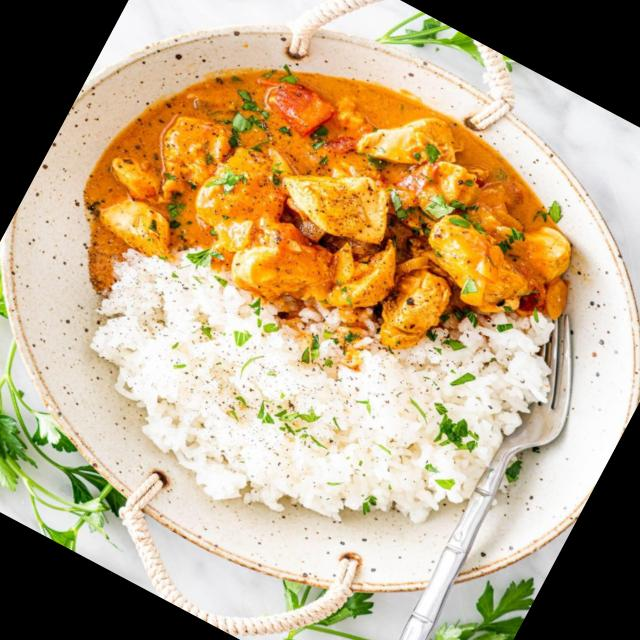chicken: (88, 14, 597, 438)
rice: (94, 254, 526, 577)
